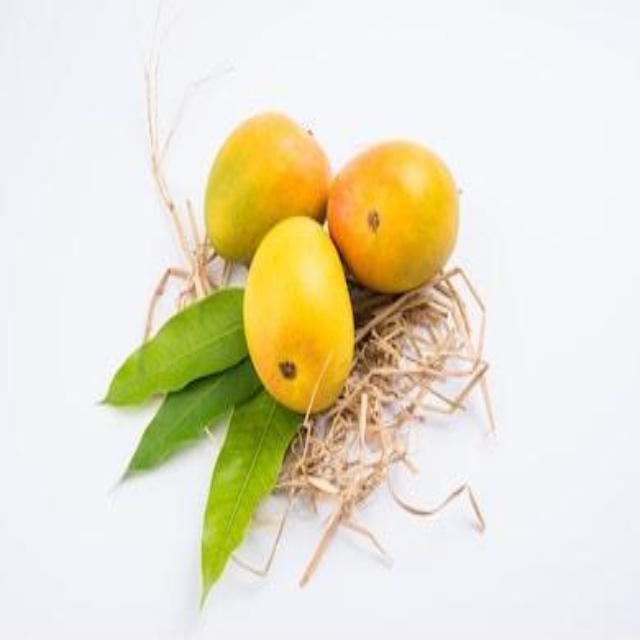mango: (233, 218, 367, 414), (199, 109, 326, 260), (331, 138, 460, 286)
